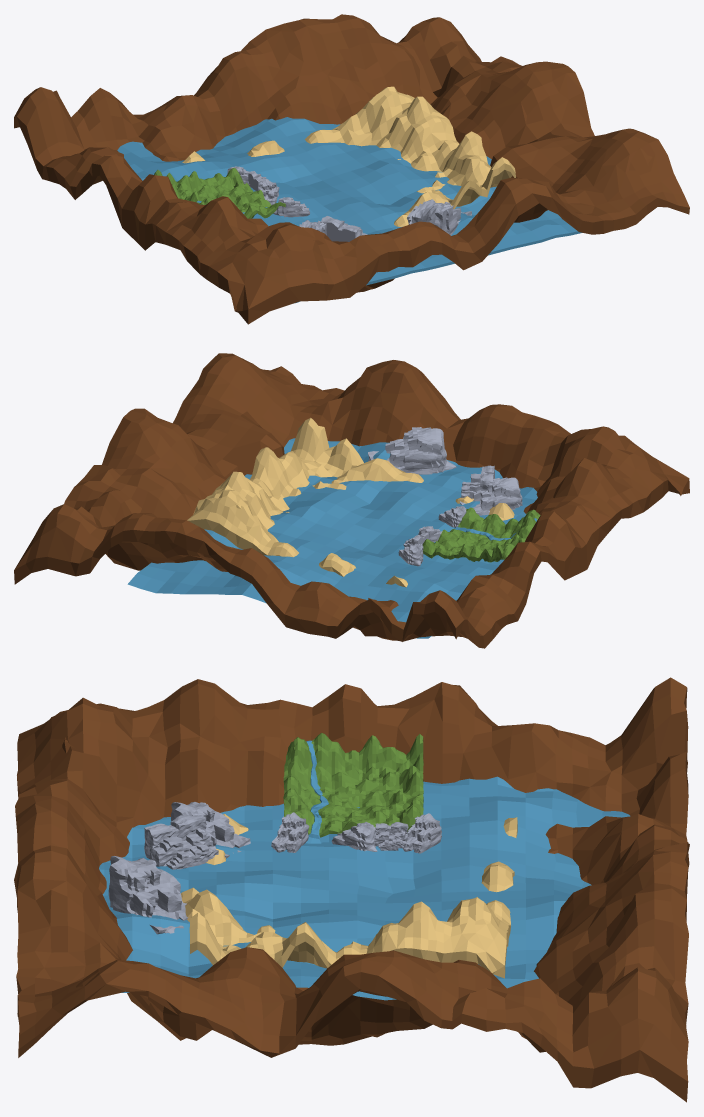
File: ENV_mountain_terrain2.fbx
3 renders of one model, top to bottom at view 1: azimuth 30°, elevation 25°; view 2: azimuth 150°, elevation 25°; view 3: azimuth 270°, elevation 25°, orthographic. The views are drawn at different scales.
Visible parts, largest first — view 1: env_mountain_terrain2; view 2: env_mountain_terrain2; view 3: env_mountain_terrain2.
Part boxes in pixels (x1,y1,x2,y2): env_mountain_terrain2: (14, 14, 689, 324); env_mountain_terrain2: (14, 353, 689, 648); env_mountain_terrain2: (14, 677, 689, 1102).
Bounding box in the file's own units: 61937 × 56994 × 17524.
